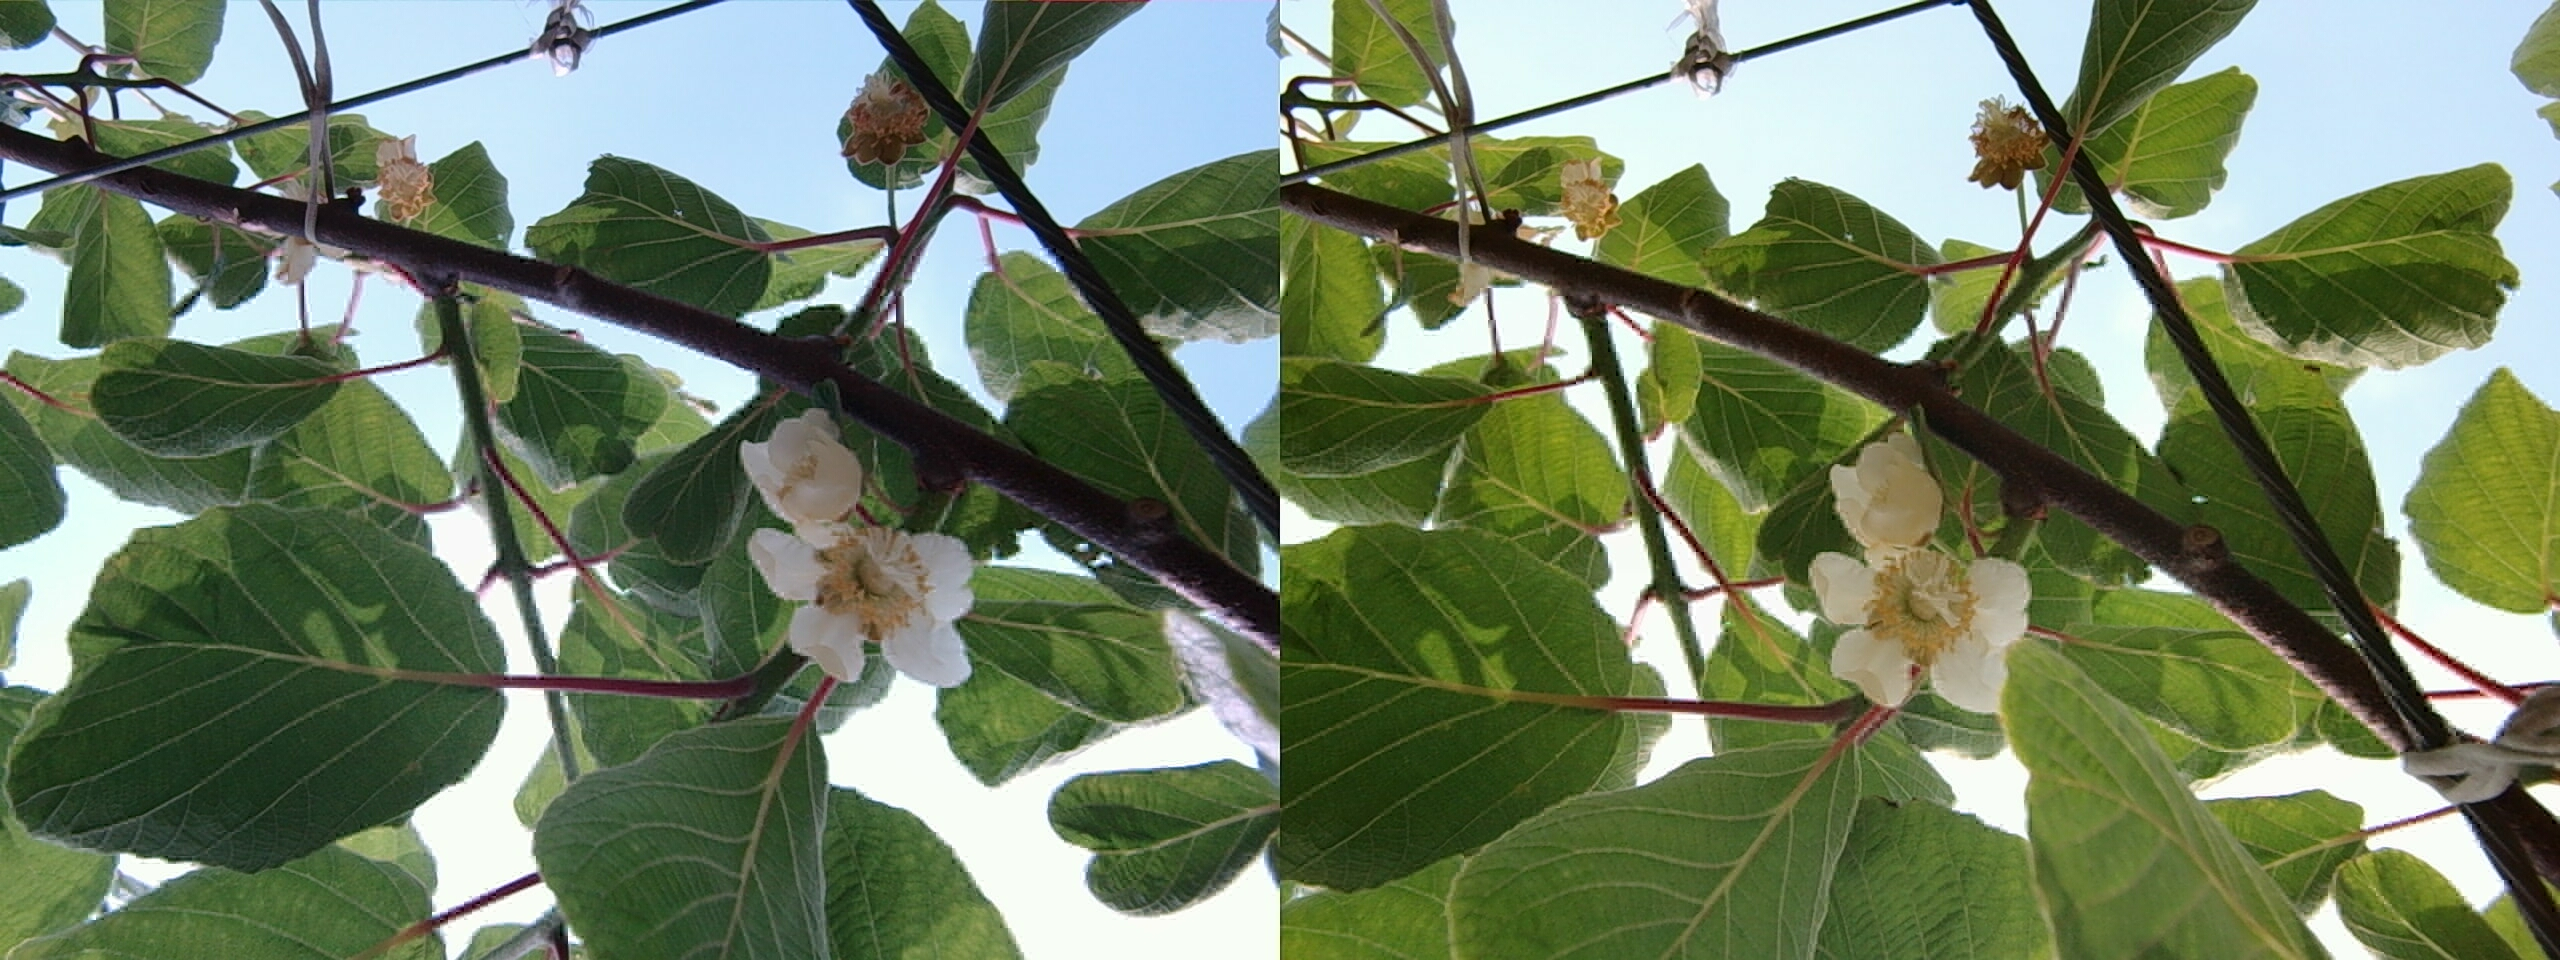flower: (1802, 519, 2029, 720), (749, 503, 980, 687)
